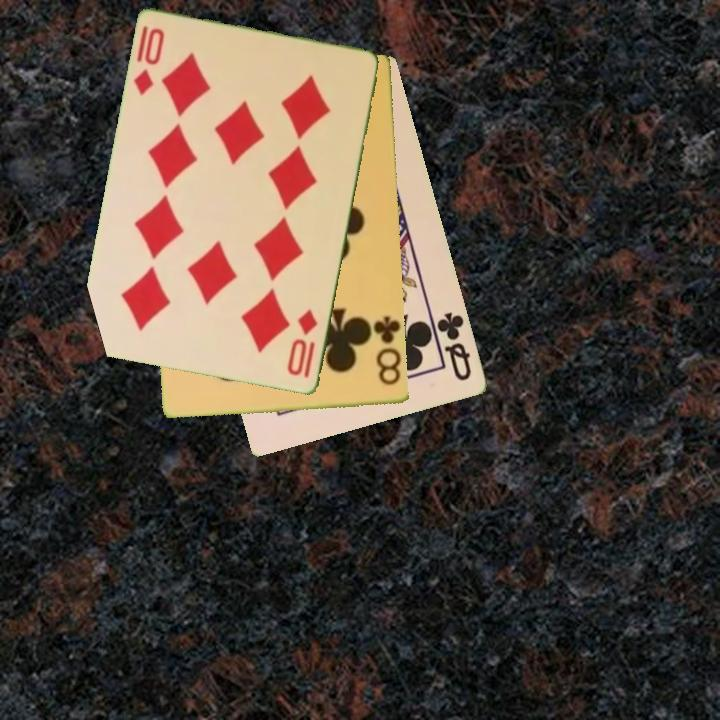10d: (284, 305, 321, 382), (130, 25, 168, 99)
8c: (367, 313, 404, 388)
Qc: (433, 308, 475, 384)
